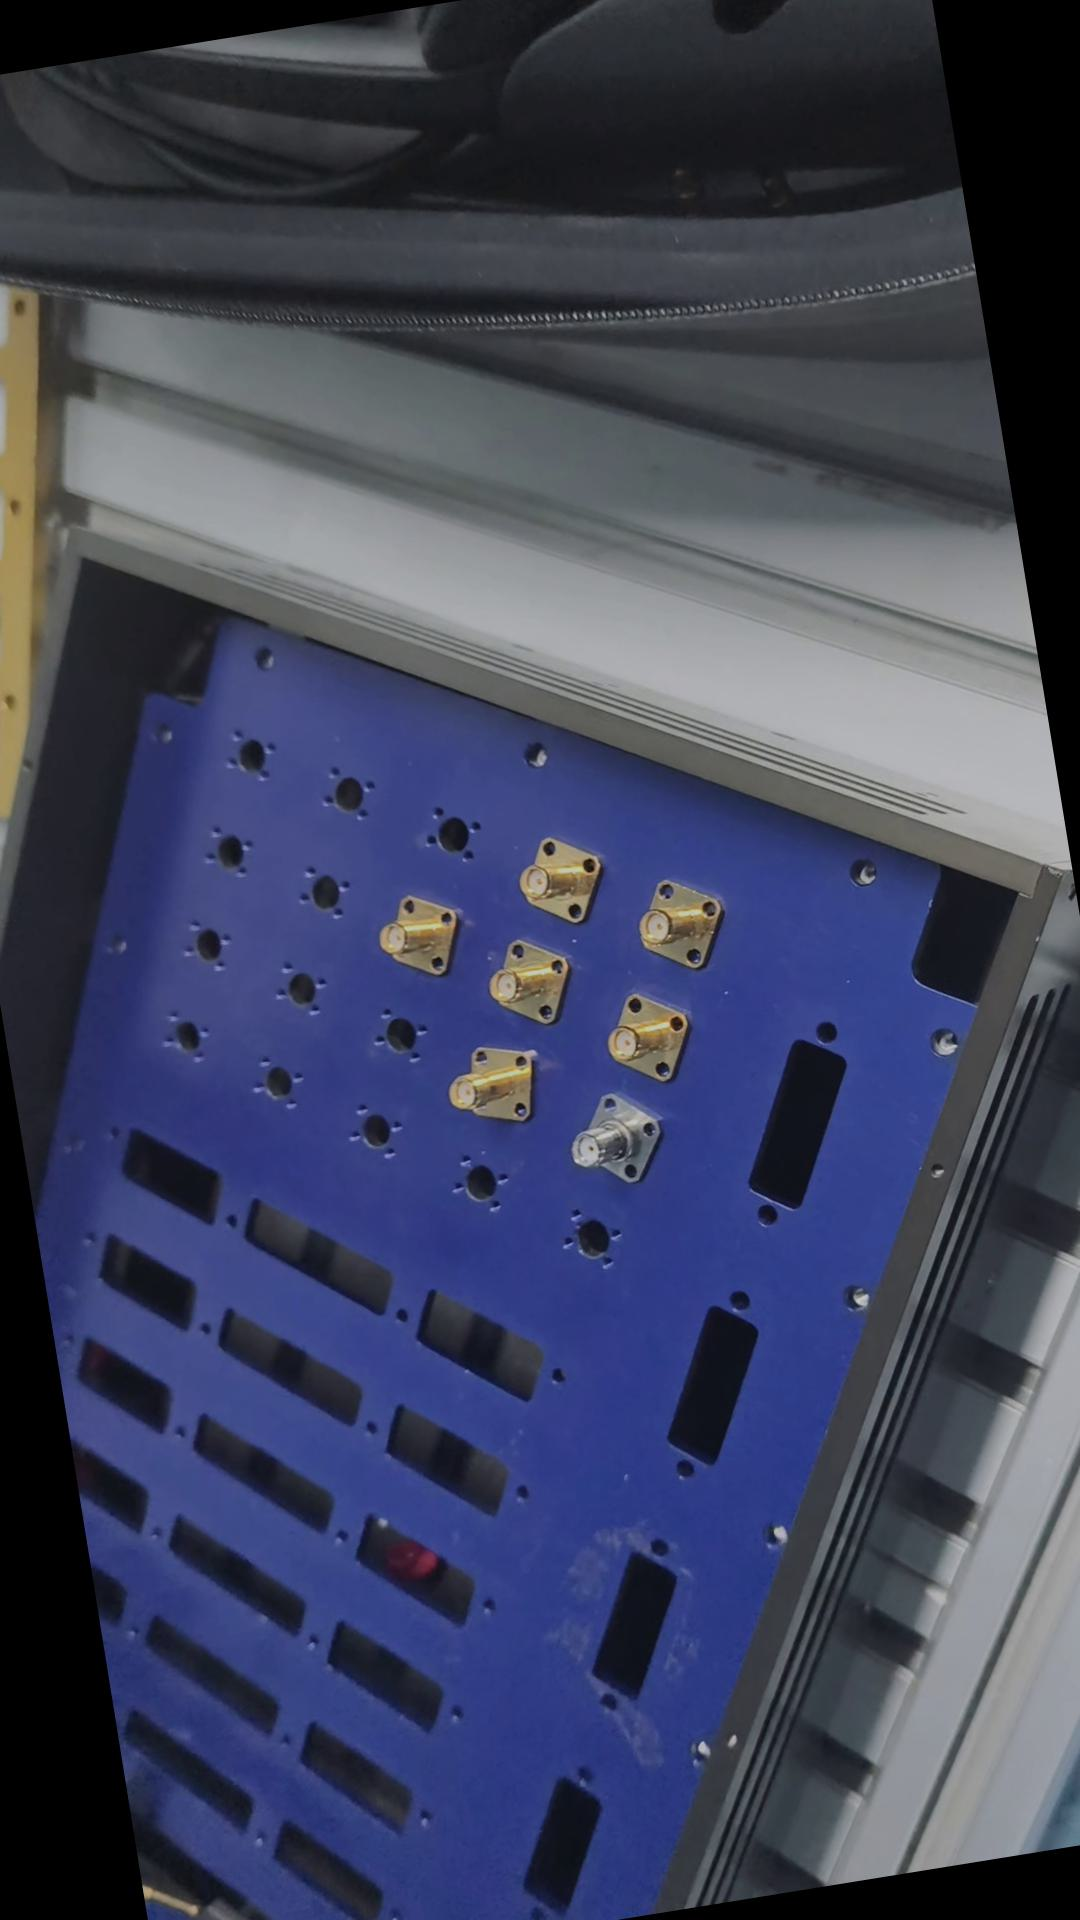SMA: (558, 1077, 675, 1195), (626, 861, 738, 977), (587, 978, 702, 1091), (473, 931, 582, 1036), (505, 827, 607, 928), (369, 886, 468, 989), (446, 1040, 545, 1131)
